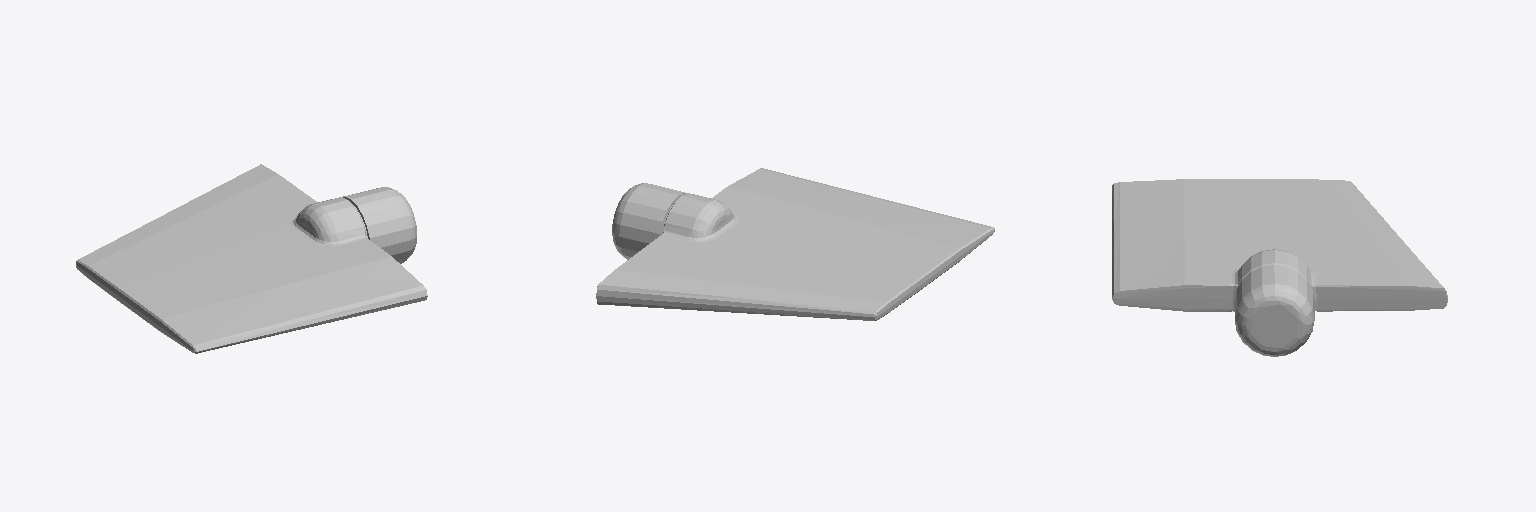
The model's file is flap_obj.obj.
The picture shows the model from 3 angles: view 1: azimuth 30°, elevation 25°; view 2: azimuth 150°, elevation 25°; view 3: azimuth 270°, elevation 25°; orthographic projection.
Parts seen in each view (by area): view 1: Odyssey_OBJ; view 2: Odyssey_OBJ; view 3: Odyssey_OBJ.
Part boxes in pixels (left/top/right/bottom): Odyssey_OBJ: left=76, top=164, right=427, bottom=353; Odyssey_OBJ: left=596, top=168, right=994, bottom=320; Odyssey_OBJ: left=1112, top=179, right=1447, bottom=356.
Bounding box in the file's own units: 116 × 27.88 × 117.